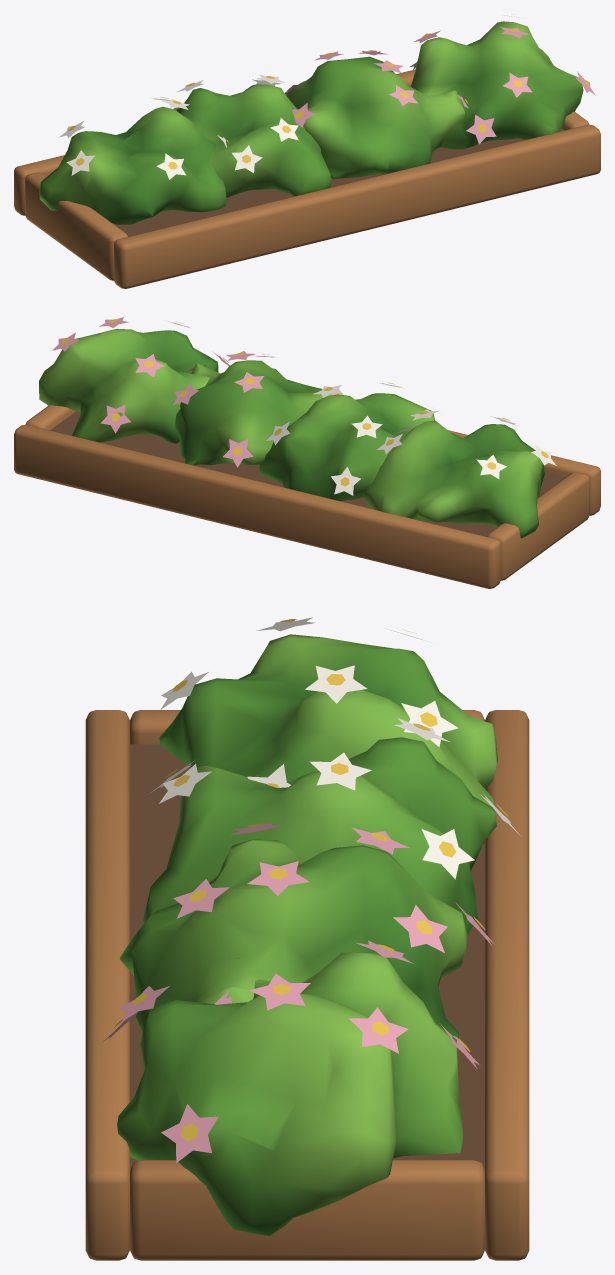
Rendered from flower_bed.glb.
3 renders of one model, top to bottom at view 1: azimuth 30°, elevation 25°; view 2: azimuth 150°, elevation 25°; view 3: azimuth 270°, elevation 25°, orthographic. The views are drawn at different scales.
Parts seen in each view (by area): view 1: flower_bed_foliage, flower_bed; view 2: flower_bed_foliage, flower_bed; view 3: flower_bed_foliage, flower_bed.
Part boxes in pixels (x1=…): flower_bed_foliage: x1=39, y1=21, x2=583, y2=224; flower_bed: x1=14, y1=14, x2=600, y2=288; flower_bed_foliage: x1=39, y1=328, x2=544, y2=538; flower_bed: x1=14, y1=317, x2=600, y2=588; flower_bed_foliage: x1=117, y1=634, x2=497, y2=1235; flower_bed: x1=85, y1=617, x2=529, y2=1260.
Bounding box in the file's own units: 2.1 × 0.4752 × 0.8.
